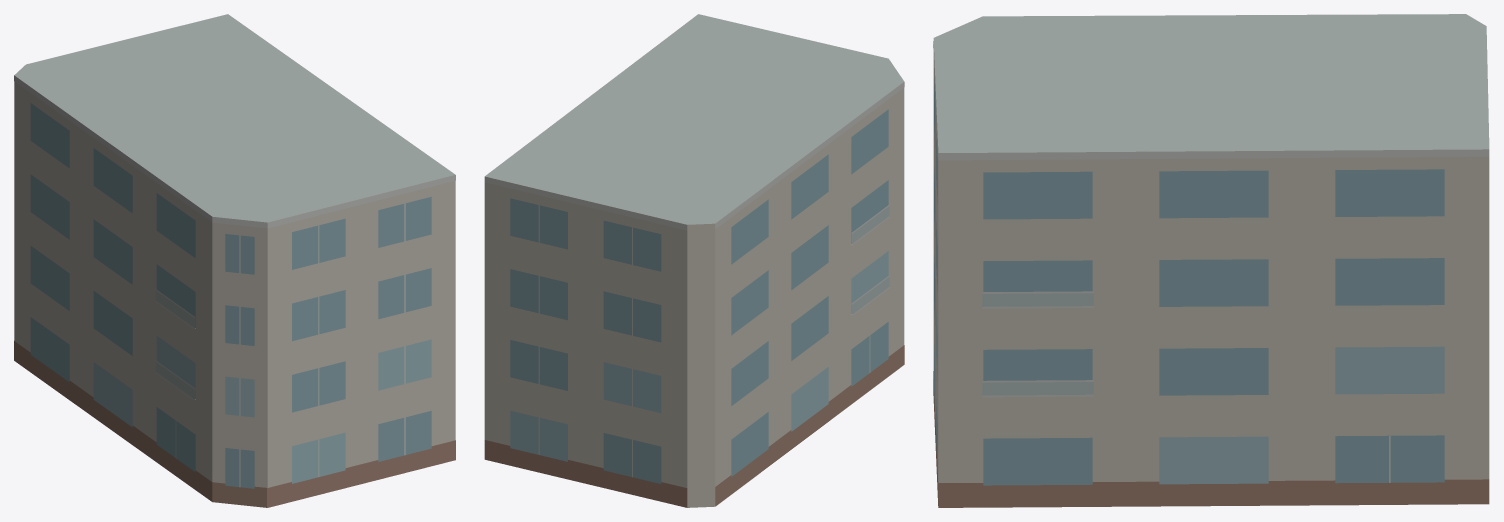
File: survey-upis-32904921.glb
3 renders of one model, left to right at view 1: azimuth 30°, elevation 25°; view 2: azimuth 150°, elevation 25°; view 3: azimuth 270°, elevation 25°, orthographic. The views are drawn at different scales.
Visible parts, largest first — view 1: survey-upis-32904921.tmp; view 2: survey-upis-32904921.tmp; view 3: survey-upis-32904921.tmp.
Part boxes in pixels (box(x1,y1,x2,y2)): survey-upis-32904921.tmp: box(14, 14, 455, 507); survey-upis-32904921.tmp: box(484, 14, 904, 507); survey-upis-32904921.tmp: box(933, 14, 1489, 507).
Bounding box in the file's own units: 10.04 × 11.91 × 16.93.
